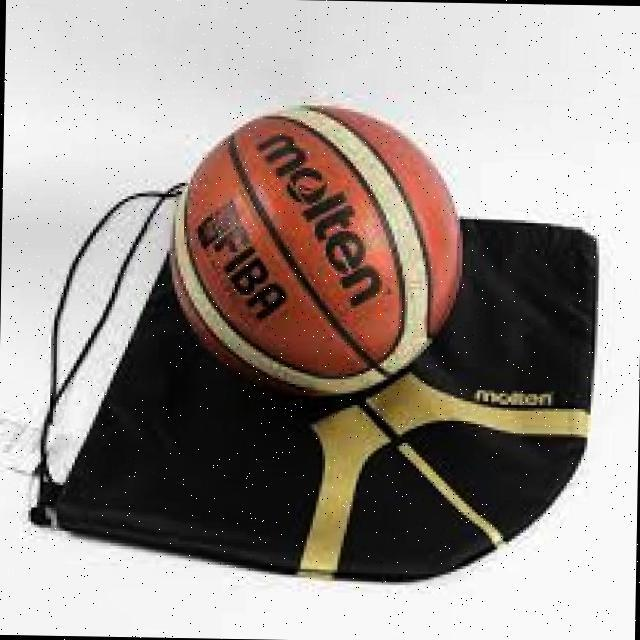ball: (170, 101, 463, 398)
